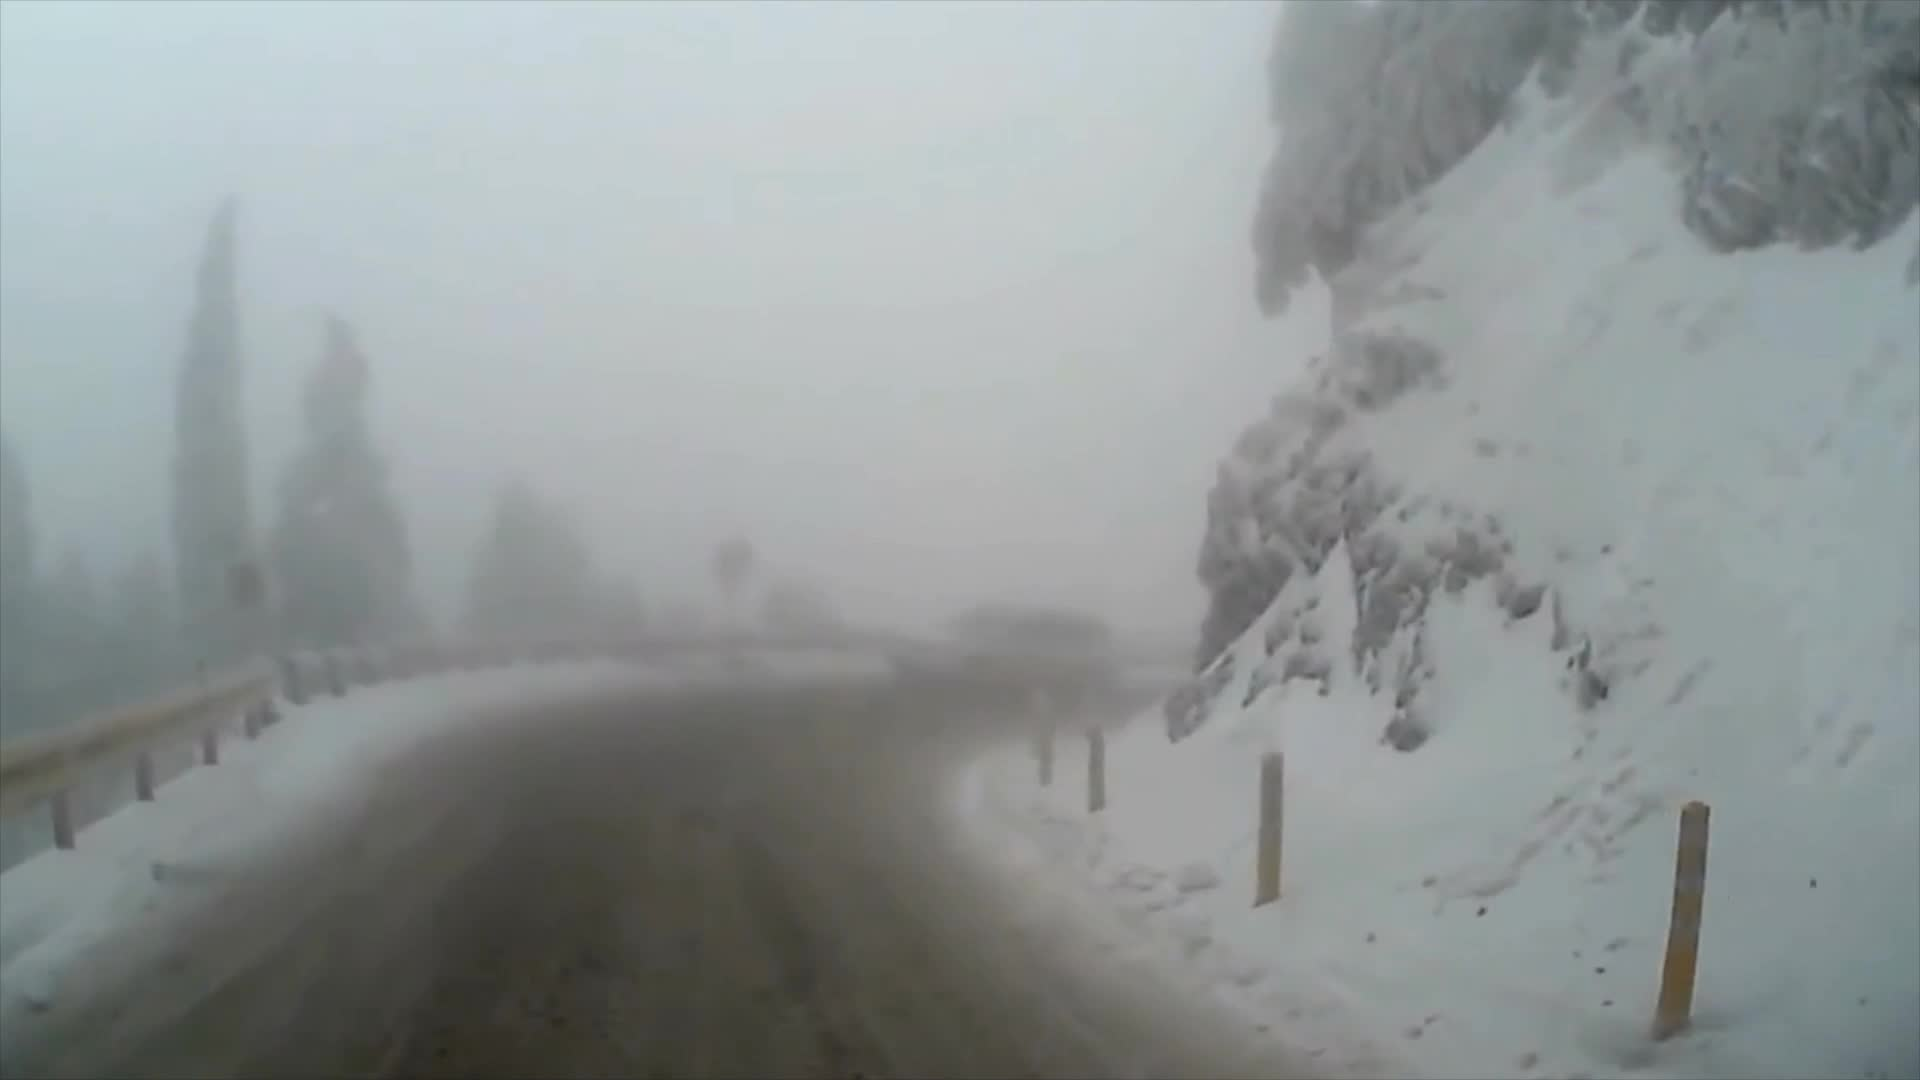vehicle: (884, 591, 1122, 708)
